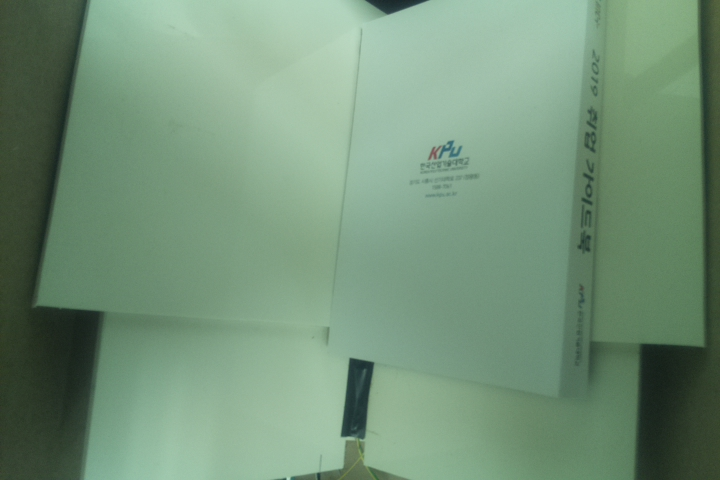book: (325, 1, 608, 402)
